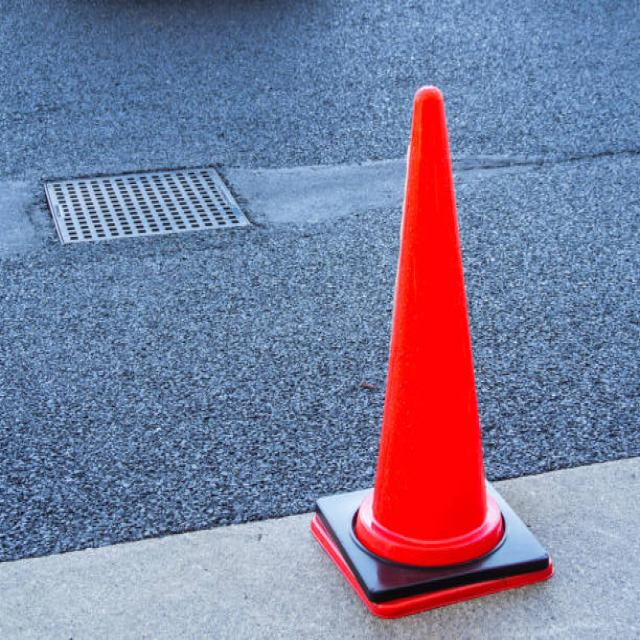Traffic Cone: (296, 58, 572, 640)
